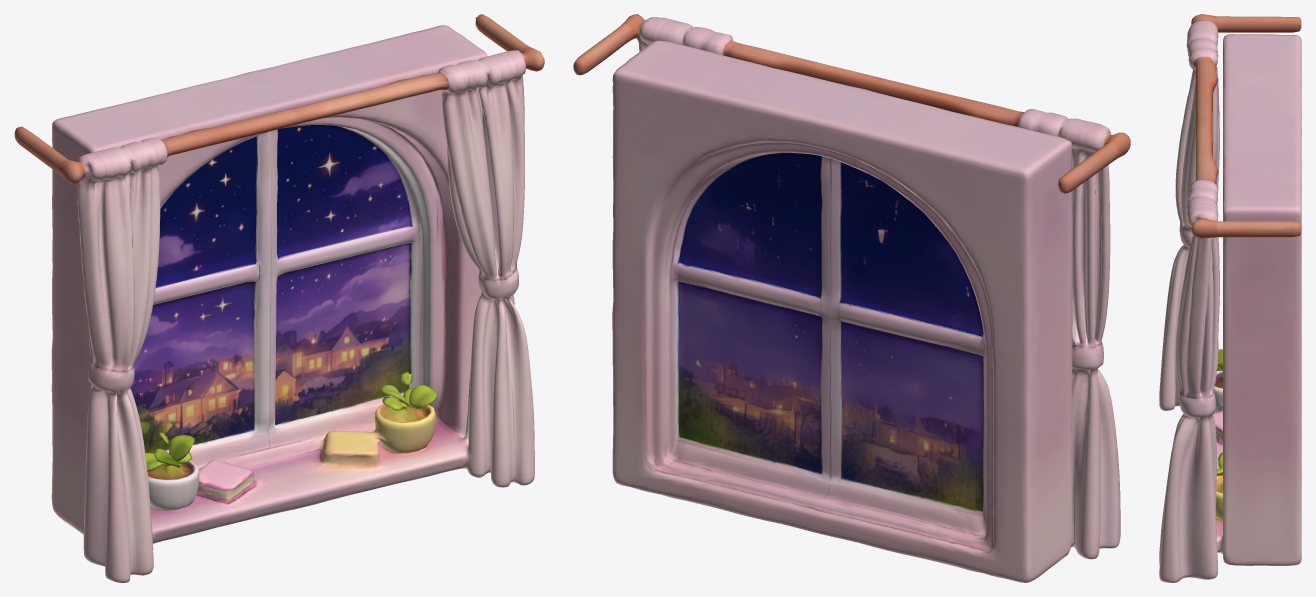
Rendered from window.glb.
3 views of the same model, side by side, from view 1: azimuth 30°, elevation 25°; view 2: azimuth 150°, elevation 25°; view 3: azimuth 270°, elevation 25° (orthographic). The views are drawn at different scales.
Parts seen in each view (by area): view 1: model; view 2: model; view 3: model.
Boxes of the visible parts, left/top/right/bottom form: model: left=14, top=14, right=544, bottom=582; model: left=573, top=14, right=1130, bottom=582; model: left=1159, top=14, right=1301, bottom=582.
Bounding box in the file's own units: 1.89 × 1.57 × 0.5396.
Materials: 1 (1 with a texture image).
